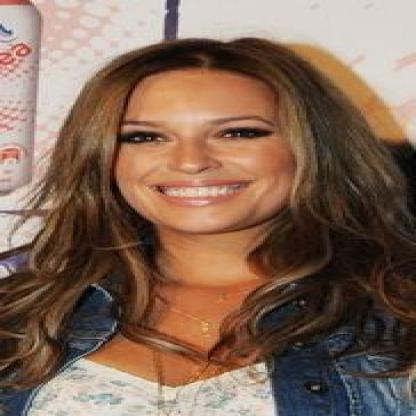long-hair: (2, 235, 414, 290)
